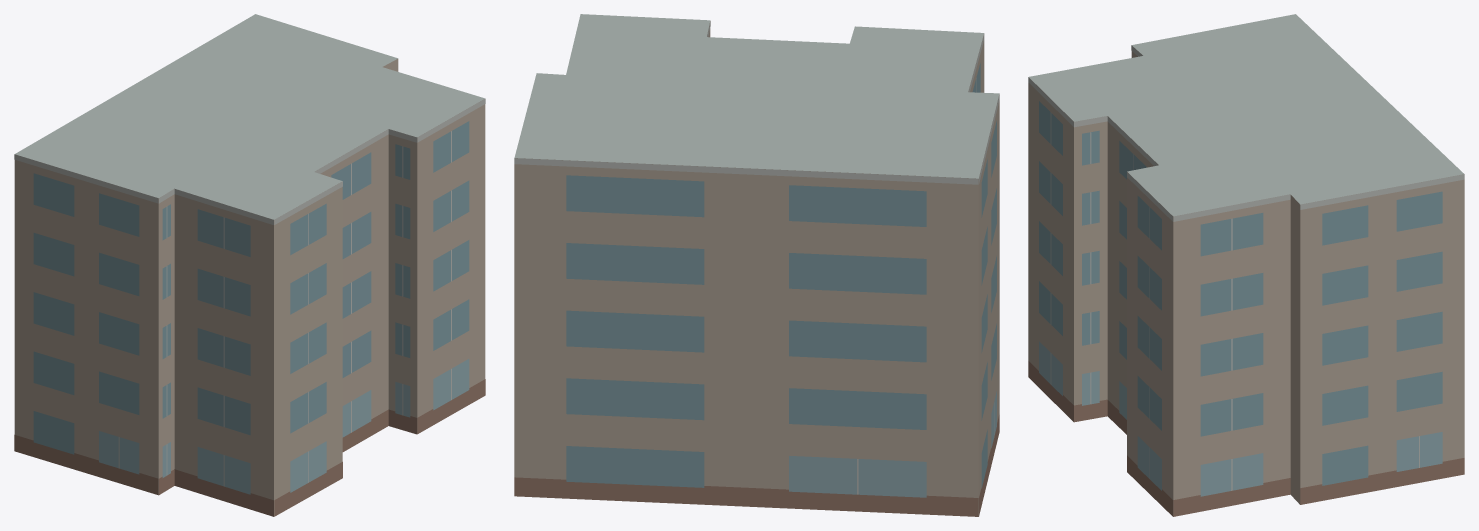
Rendered from survey-upis-32602363.glb.
3 renders of one model, left to right at view 1: azimuth 30°, elevation 25°; view 2: azimuth 150°, elevation 25°; view 3: azimuth 270°, elevation 25°, orthographic. The views are drawn at different scales.
Visible parts, largest first — view 1: survey-upis-32602363.tmp; view 2: survey-upis-32602363.tmp; view 3: survey-upis-32602363.tmp.
Part boxes in pixels (x1=…): survey-upis-32602363.tmp: x1=14, y1=14, x2=485, y2=516; survey-upis-32602363.tmp: x1=514, y1=14, x2=999, y2=516; survey-upis-32602363.tmp: x1=1028, y1=14, x2=1464, y2=516.
Bounding box in the file's own units: 19.24 × 13.3 × 17.51.
